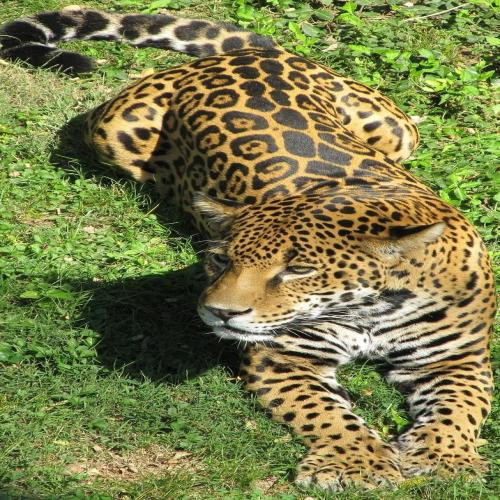jaguar_not-endangered: (75, 14, 485, 473)
